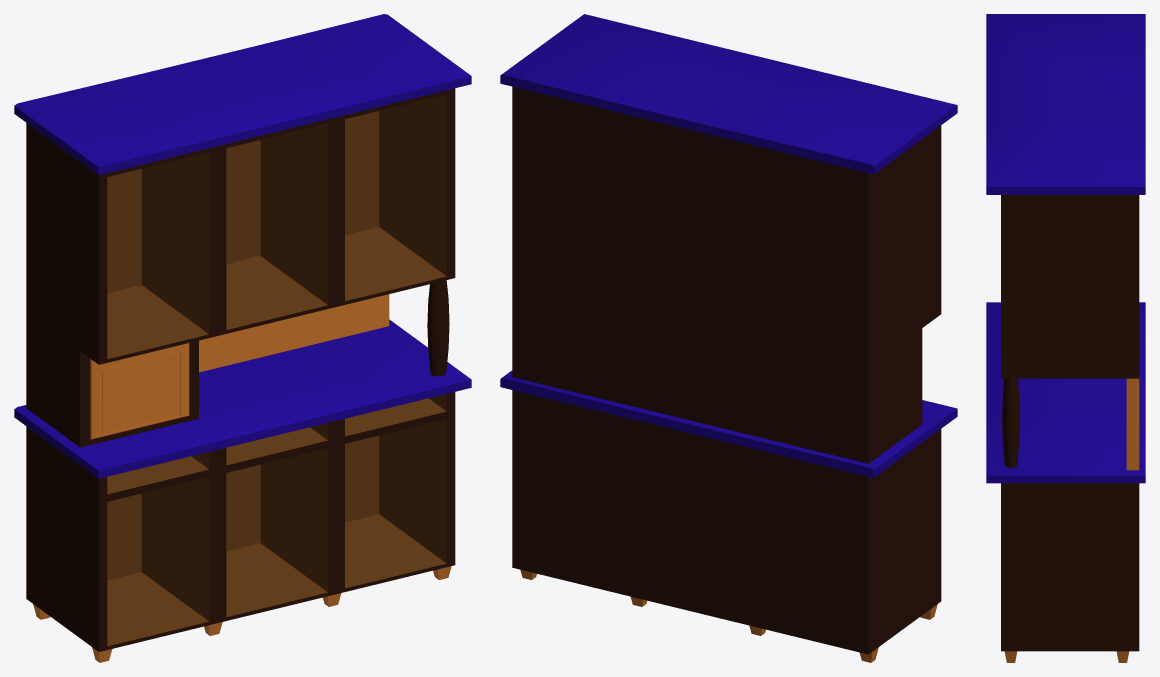
File: SM_Gros_Buffet.fbx
3 renders of one model, left to right at view 1: azimuth 30°, elevation 25°; view 2: azimuth 150°, elevation 25°; view 3: azimuth 270°, elevation 25°, orthographic. The views are drawn at different scales.
Visible parts, largest first — view 1: Gros_Buffet001; view 2: Gros_Buffet001; view 3: Gros_Buffet001.
Part boxes in pixels (bbox=[...]): Gros_Buffet001: bbox=[14, 14, 471, 662]; Gros_Buffet001: bbox=[500, 14, 957, 662]; Gros_Buffet001: bbox=[986, 14, 1145, 662].
Bounding box in the file's own units: 2.08 × 2.7 × 0.8087.
